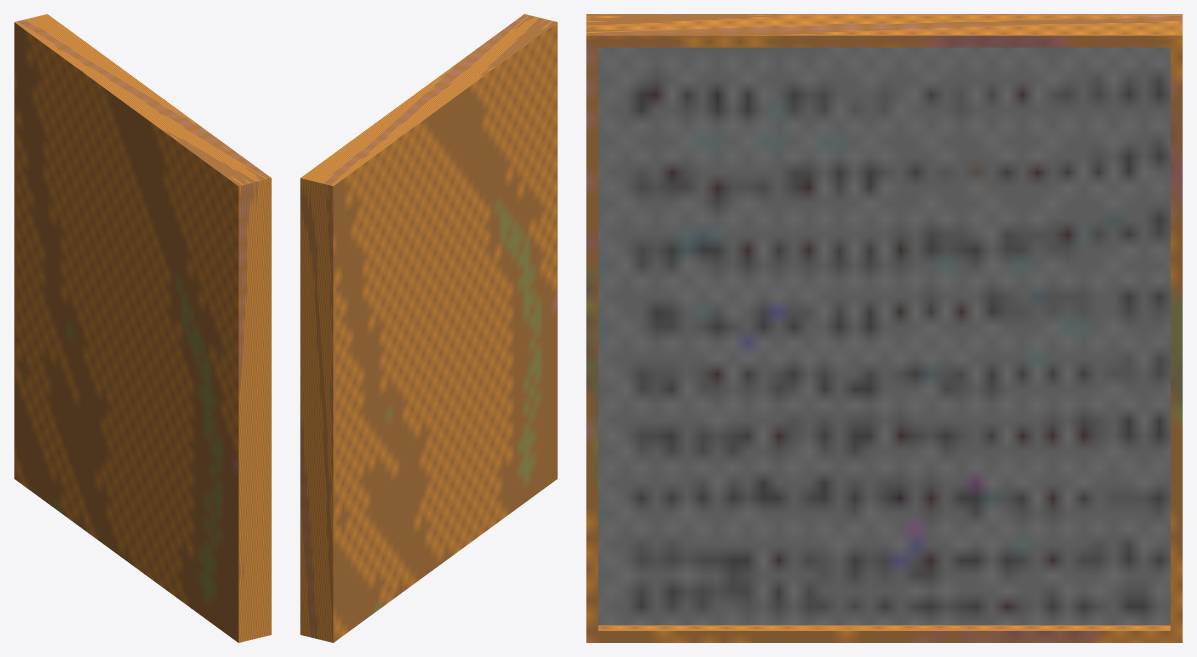
File: pegboard.fbx
3 views of the same model, side by side, from view 1: azimuth 30°, elevation 25°; view 2: azimuth 150°, elevation 25°; view 3: azimuth 270°, elevation 25° (orthographic). The views are drawn at different scales.
Parts seen in each view (by area): view 1: Cube; view 2: Cube; view 3: Cube.
Boxes of the visible parts, bbox=[...] form: Cube: bbox=[14, 14, 271, 642]; Cube: bbox=[300, 14, 557, 642]; Cube: bbox=[586, 14, 1182, 642].
Size of the model in its own units: 15.23 by 200 by 178.
